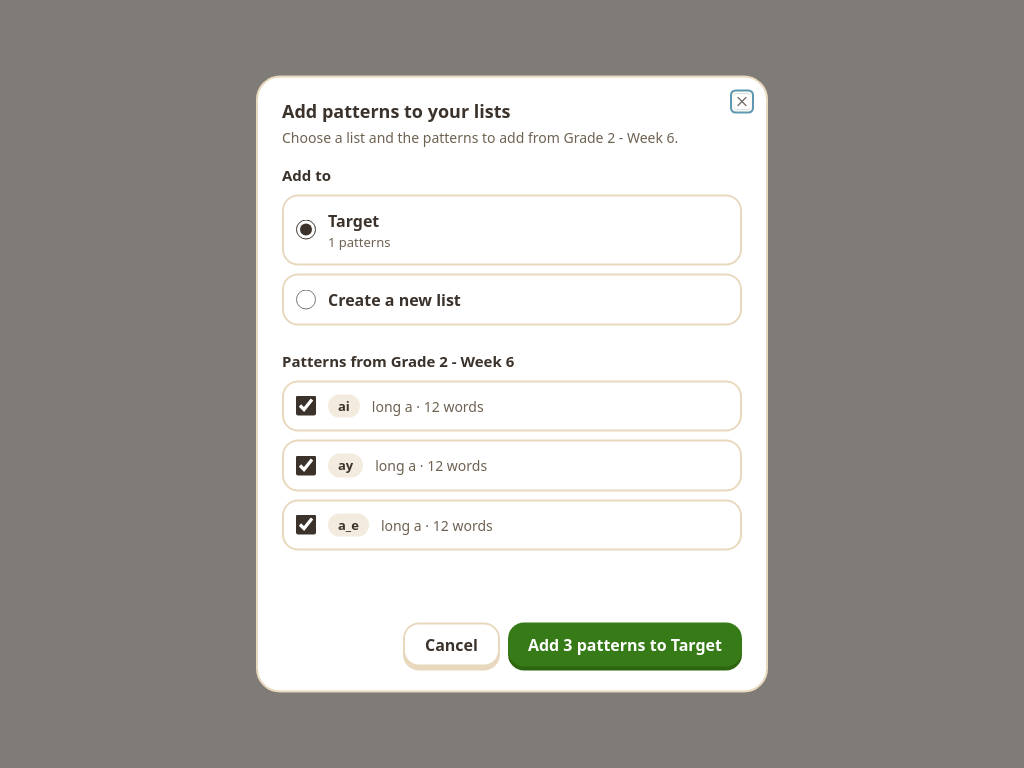
Test: PullPatternsModal › merges checked patterns into an existing list
The image size is (1024, 768).
Expected: the text "Target" is shown, left=328, top=209, right=379, bottom=231
Step 1. Click the button "Add 3 patterns to Target" → (625, 644), box left=508, top=622, right=742, bottom=666
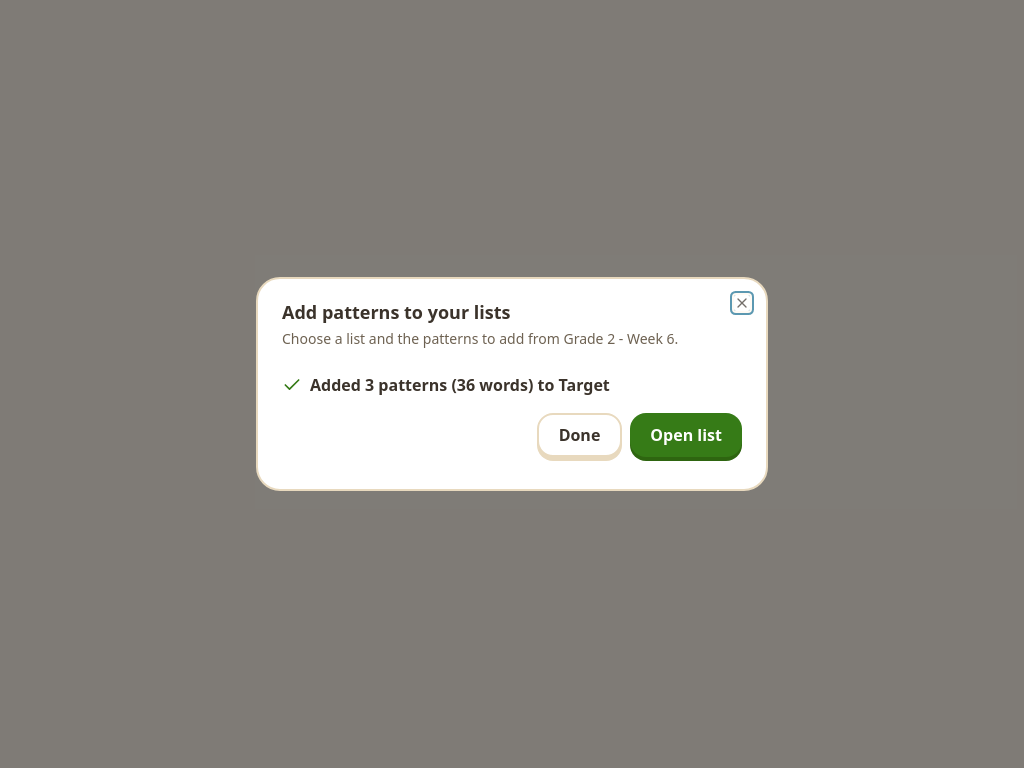
Now the message shows "Added", box left=310, top=374, right=365, bottom=396
